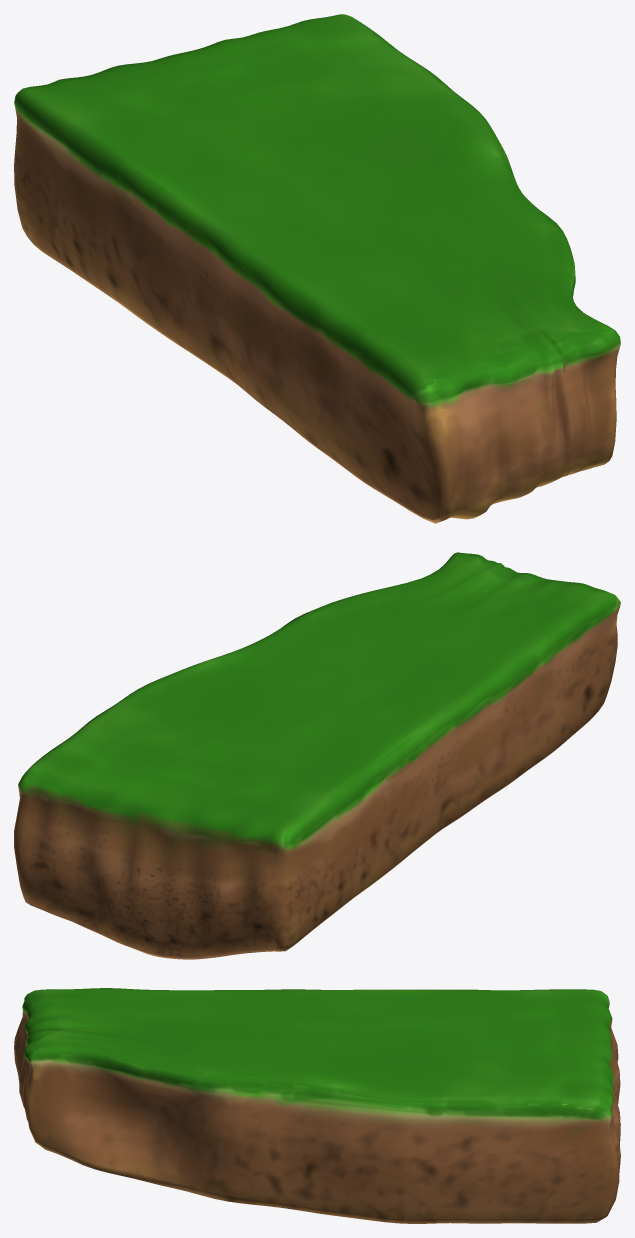
File: groun3.fbx
3 views of the same model, one above another, from view 1: azimuth 30°, elevation 25°; view 2: azimuth 150°, elevation 25°; view 3: azimuth 270°, elevation 25° (orthographic). The views are drawn at different scales.
Visible parts, largest first — view 1: Plane; view 2: Plane; view 3: Plane.
Boxes of the visible parts, bbox=[...] form: Plane: bbox=[14, 14, 620, 523]; Plane: bbox=[14, 552, 620, 959]; Plane: bbox=[14, 988, 620, 1223].
Size of the model in its own units: 1905 by 1092 by 4145.
Materials: 1 (1 with a texture image).
